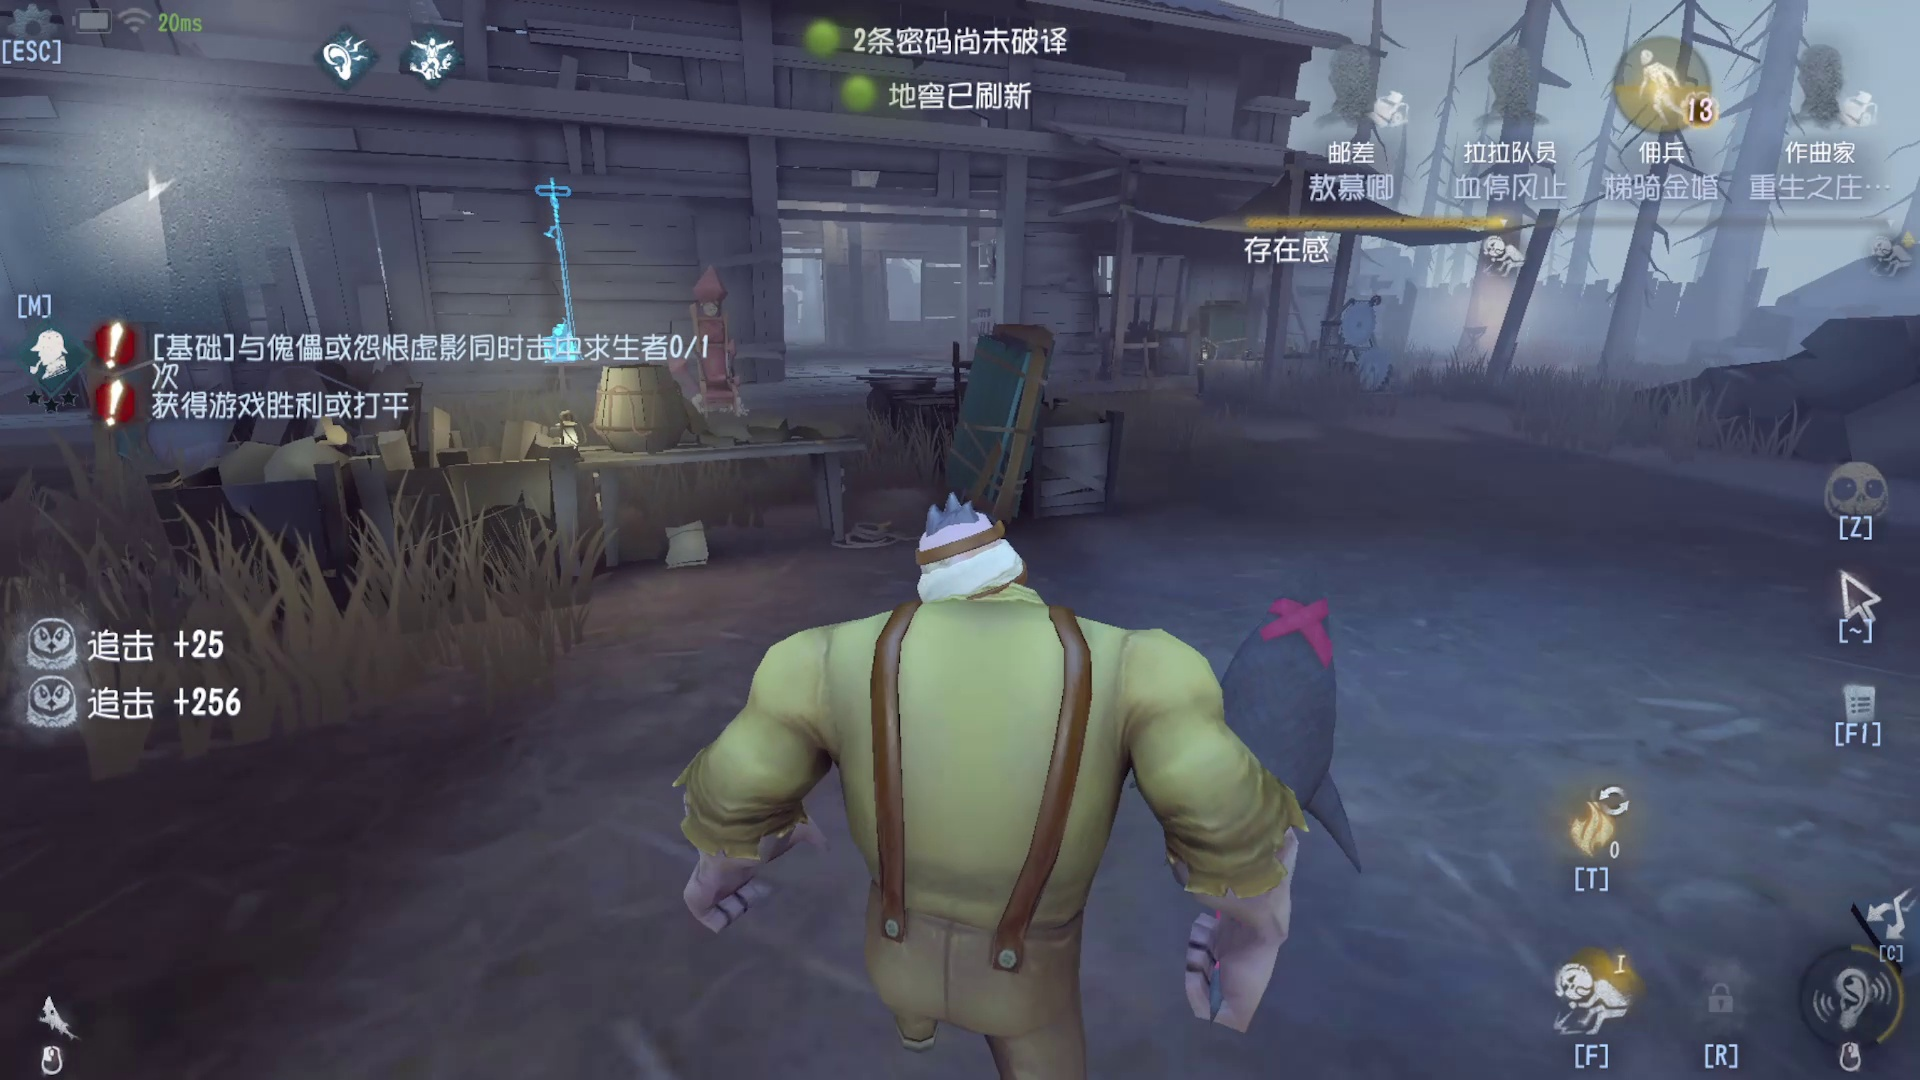密码机: (518, 178, 608, 382)
木板: (886, 297, 1071, 549), (1191, 289, 1267, 386)
狂欢之椅: (670, 266, 760, 448)
